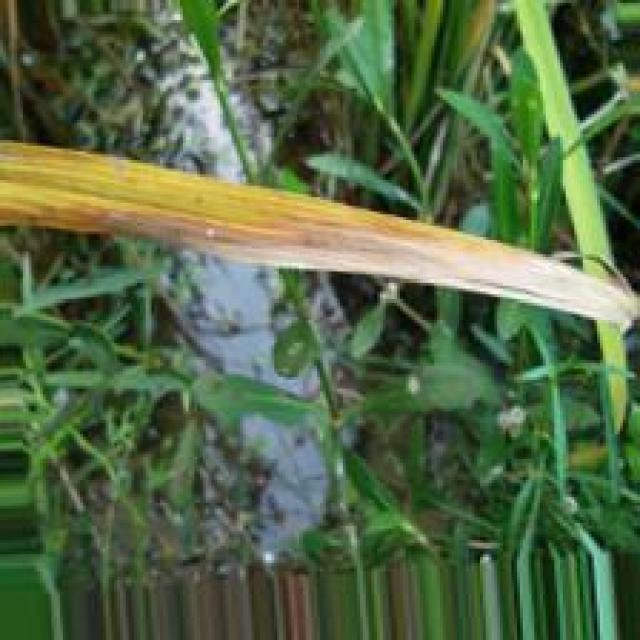Bacterial_Leaf_Blight: (32, 197, 640, 336)
